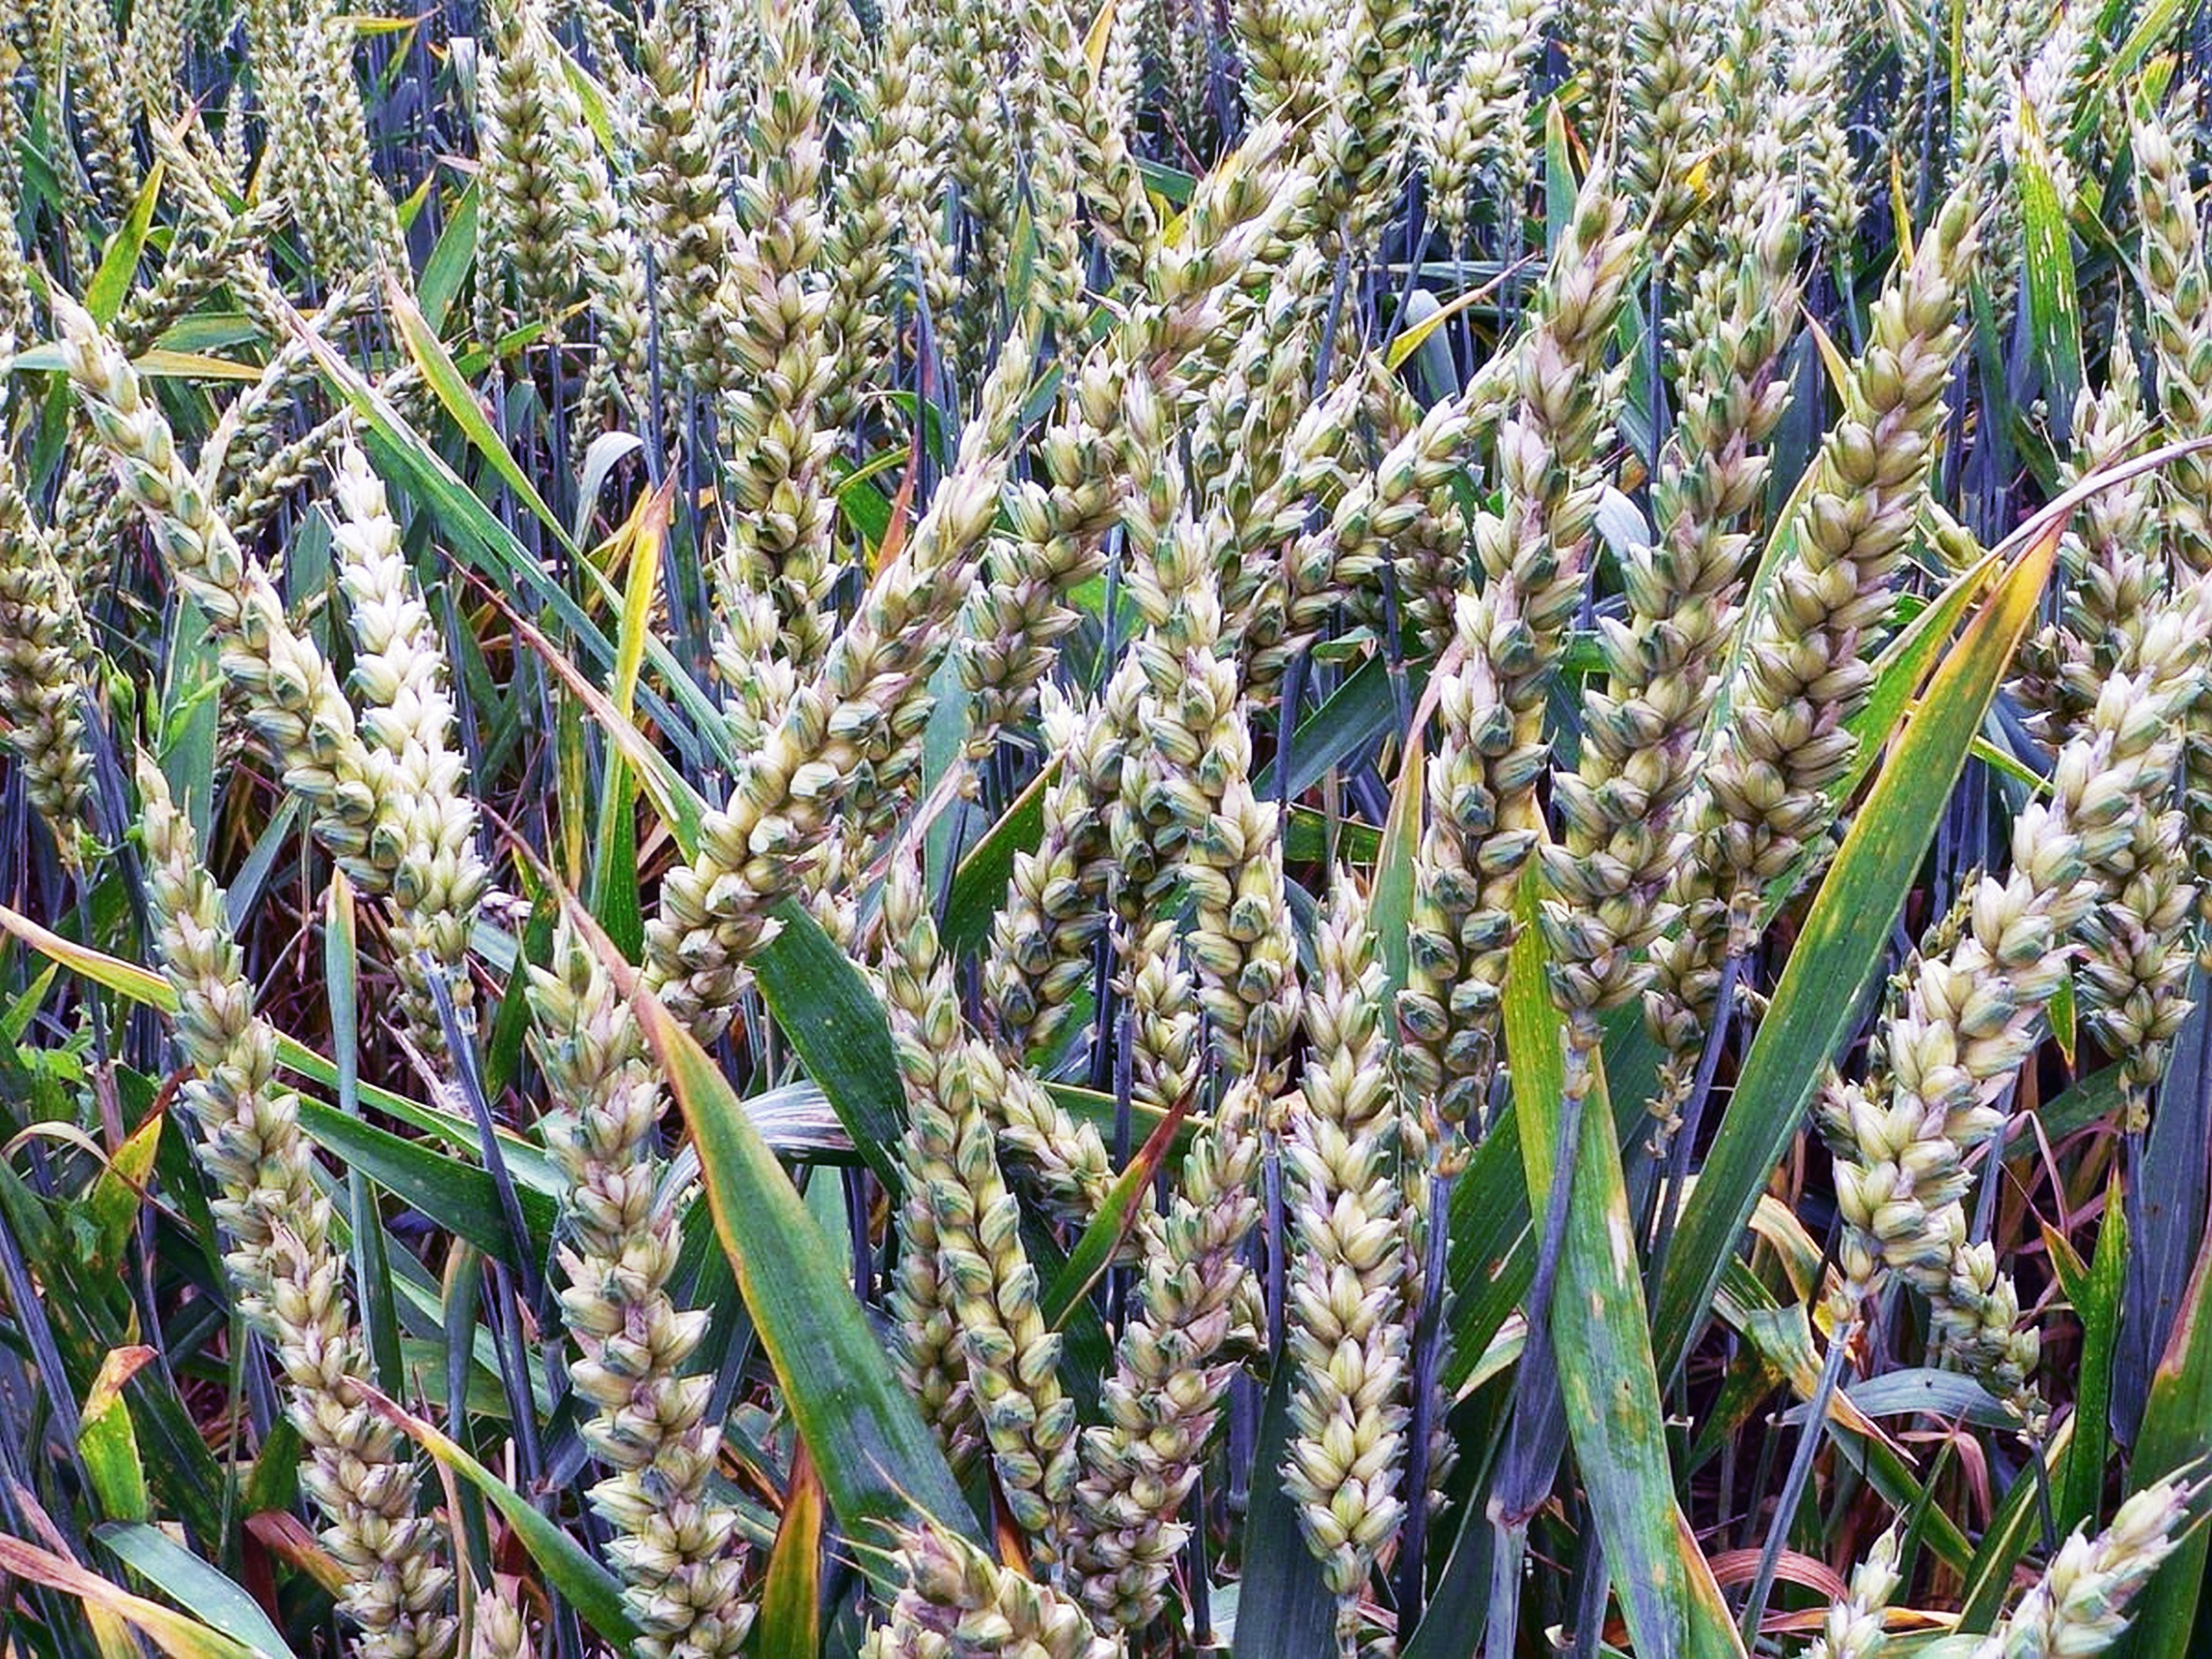Healthy Wheat: (1529, 232, 1979, 1049), (111, 777, 474, 1659), (859, 885, 1256, 1617)
